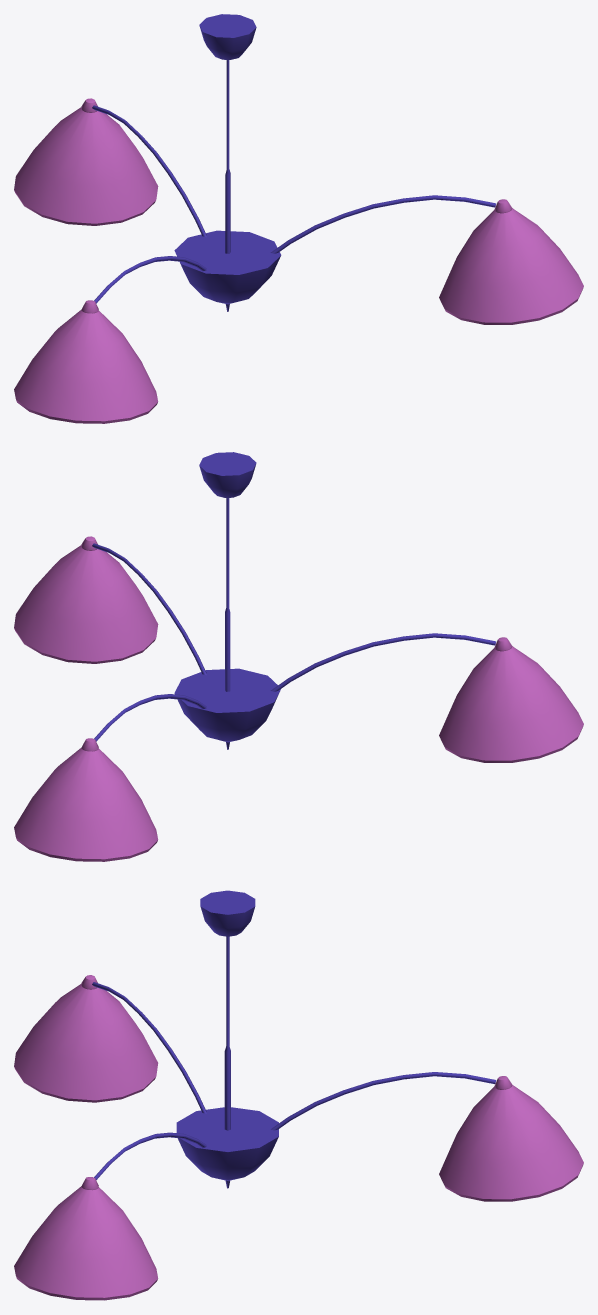
File: SM_Prop_light_CD_005.FBX
The picture shows the model from 3 angles, top to bottom: view 1: azimuth 30°, elevation 25°; view 2: azimuth 150°, elevation 25°; view 3: azimuth 270°, elevation 25°; orthographic projection.
Visible parts, largest first — view 1: SM_Prop_light_CD_005; view 2: SM_Prop_light_CD_005; view 3: SM_Prop_light_CD_005.
Boxes of the visible parts, x1,y1,x2,y2 form: SM_Prop_light_CD_005: (14, 14, 583, 423); SM_Prop_light_CD_005: (14, 452, 583, 861); SM_Prop_light_CD_005: (14, 890, 583, 1300).
Bounding box in the file's own units: 1849 × 917 × 1660.
